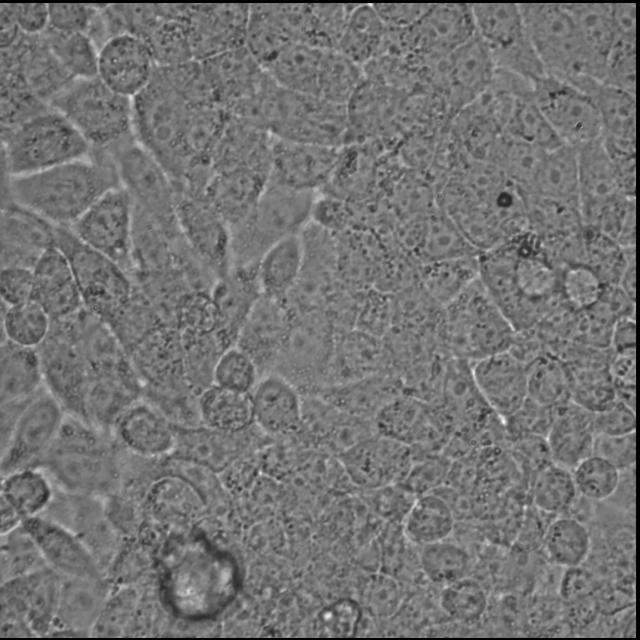microbeads: (500, 192, 512, 208)
